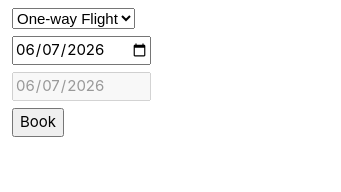
FlightBooker › 往復便で復路が往路より後なら予約できる
The width and height of the screenshot is (341, 192).
Select "Return Flight" in the dropdown at coordinates (74, 18), box [12,8,135,28]
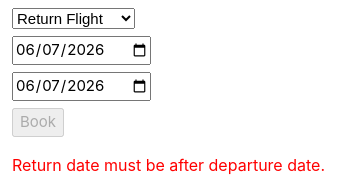
Type "2026-06-10" into the date field with id "departure-date" at coordinates (82, 50), box [12,36,151,64]
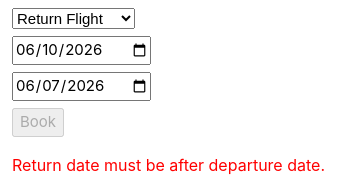
Type "2026-06-11" into the date field with id "return-date" at coordinates (82, 86), box [12,72,151,100]
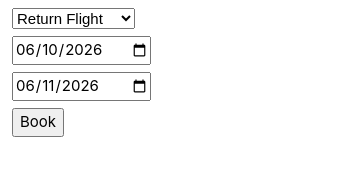
Check: the button "Book" is enabled, box [12,108,64,136]
